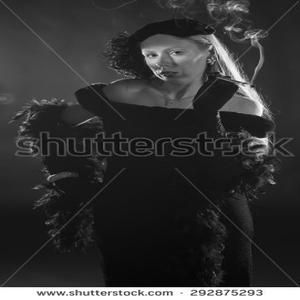cigarette: (218, 71, 257, 91)
